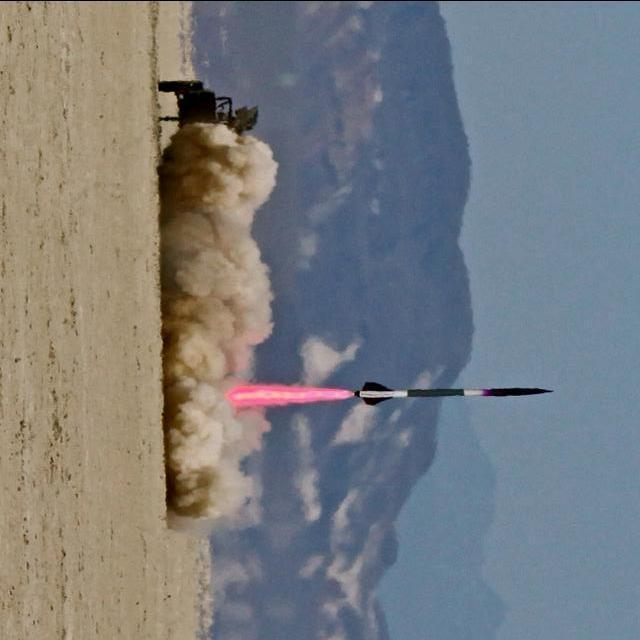missile: (355, 378, 555, 412)
